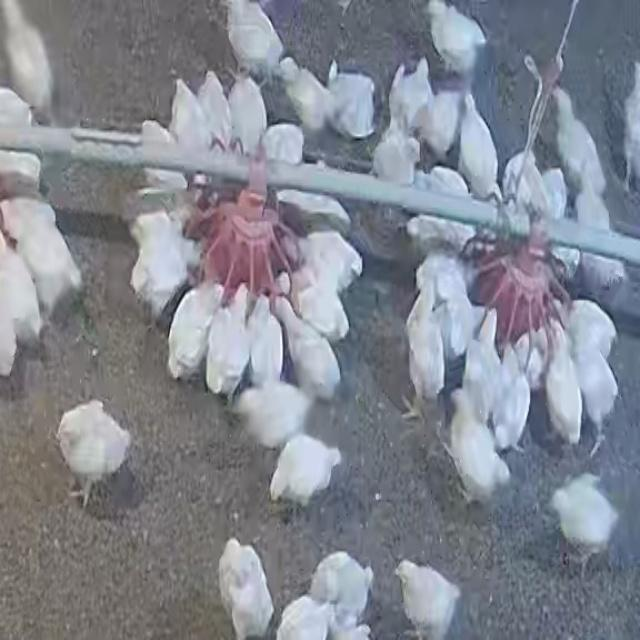chicken: (8, 200, 86, 320), (287, 232, 361, 342), (443, 394, 511, 506), (128, 208, 193, 320), (273, 294, 339, 401), (1, 2, 57, 118), (547, 478, 616, 568), (56, 403, 129, 485), (234, 379, 310, 455), (552, 87, 607, 191), (269, 433, 343, 510), (217, 538, 273, 638), (0, 242, 40, 376), (543, 331, 585, 452), (397, 561, 460, 640), (568, 337, 619, 434), (204, 289, 250, 396), (168, 284, 218, 380), (456, 92, 500, 201), (223, 0, 283, 78), (406, 293, 443, 411), (426, 3, 485, 72), (312, 550, 369, 619), (495, 347, 531, 451), (276, 56, 331, 124), (462, 319, 496, 425), (274, 187, 354, 232), (227, 70, 268, 154), (169, 76, 213, 153), (246, 294, 282, 388), (565, 299, 617, 362), (325, 72, 375, 137), (501, 147, 551, 210), (370, 122, 418, 186), (424, 80, 461, 159), (395, 55, 432, 128), (197, 70, 231, 147), (621, 63, 640, 190), (278, 597, 334, 640), (261, 122, 305, 164), (0, 85, 34, 132)
